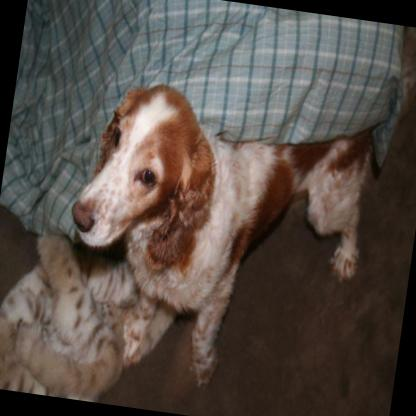Welsh_springer_spaniel: (45, 64, 388, 410)
